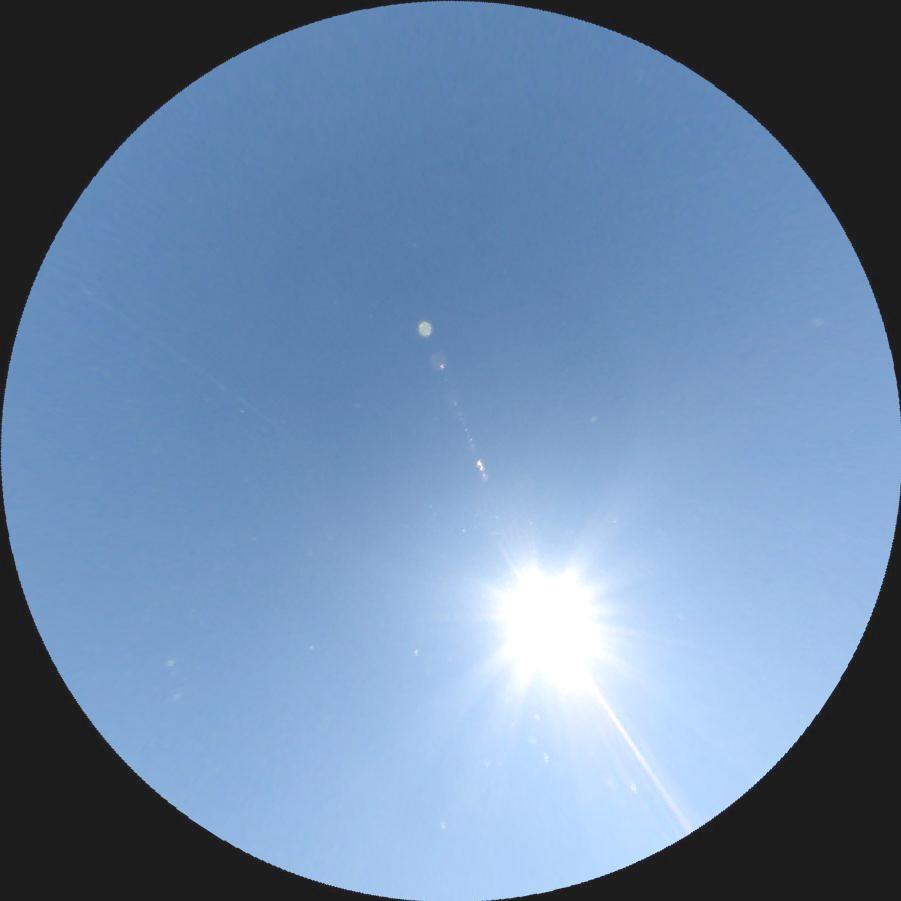parasite: (87, 289, 273, 422), (574, 664, 694, 835)
sun: (501, 565, 598, 679)
